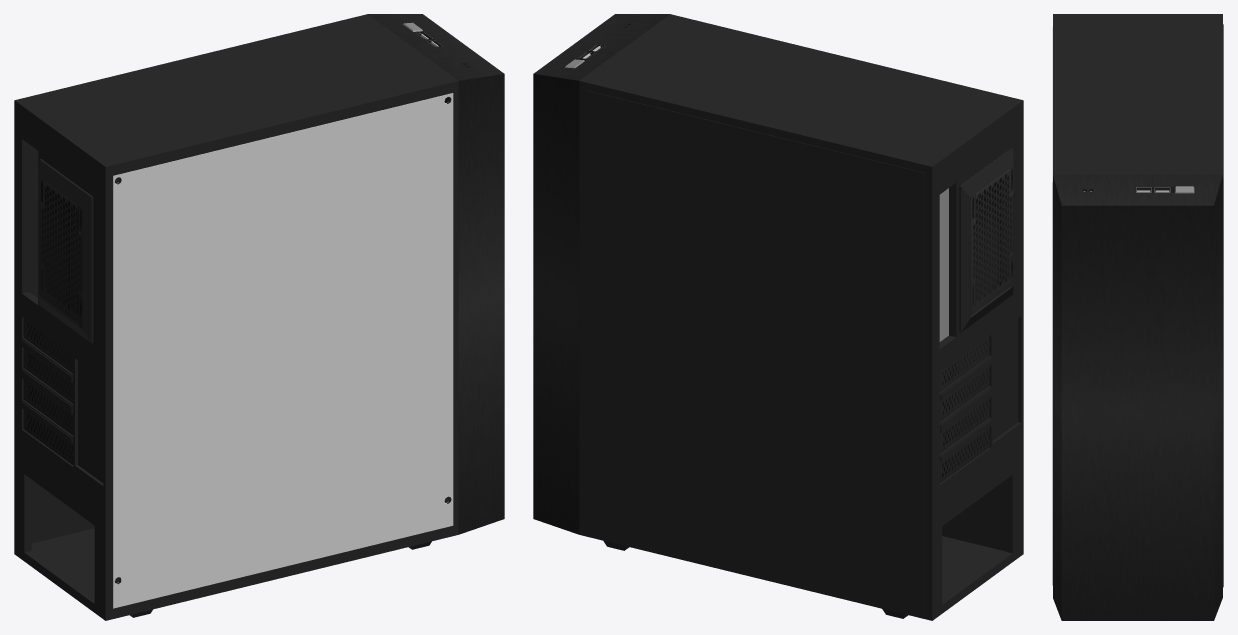
Rendered from 主機殼.fbx.
3 views of the same model, side by side, from view 1: azimuth 30°, elevation 25°; view 2: azimuth 150°, elevation 25°; view 3: azimuth 270°, elevation 25° (orthographic). The views are drawn at different scales.
Parts seen in each view (by area): view 1: 立方體.016, 立方體.015, 立方體.013, 立方體.004, 立方體.014, 立方體.009, 立方體.008, 立方體.010, 立方體.007; view 2: 立方體.004, 立方體.015, 立方體.013, 立方體.016, 立方體.007, 立方體.008, 立方體.010, 立方體.009; view 3: 立方體.015, 立方體.004, 立方體.016.
Part boxes in pixels (<box>): 立方體.016: <box>113,93,453,608</box>; 立方體.015: <box>14,14,504,620</box>; 立方體.013: <box>39,159,93,343</box>; 立方體.004: <box>31,480,94,543</box>; 立方體.014: <box>29,144,119,297</box>; 立方體.009: <box>23,348,73,403</box>; 立方體.008: <box>23,380,73,435</box>; 立方體.010: <box>23,318,73,373</box>; 立方體.007: <box>23,410,73,464</box>; 立方體.004: <box>586,90,924,611</box>; 立方體.015: <box>533,14,1023,620</box>; 立方體.013: <box>959,148,1013,332</box>; 立方體.016: <box>939,188,948,341</box>; 立方體.007: <box>939,428,989,483</box>; 立方體.008: <box>939,398,989,453</box>; 立方體.010: <box>939,336,989,391</box>; 立方體.009: <box>939,366,989,421</box>; 立方體.015: <box>1053,14,1222,620</box>; 立方體.004: <box>1223,24,1223,587</box>; 立方體.016: <box>1052,27,1052,585</box>.
Bounding box in the file's own units: 679 × 739 × 263.
